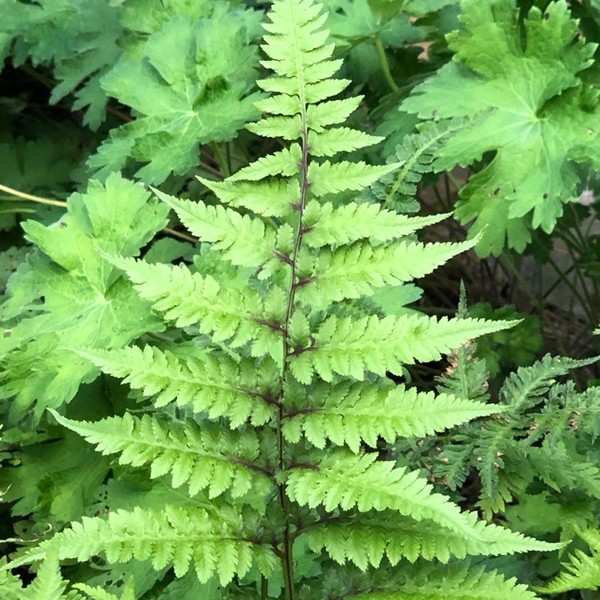obstacle: (98, 33, 484, 581), (406, 16, 584, 264), (48, 29, 276, 199), (11, 160, 153, 381)
